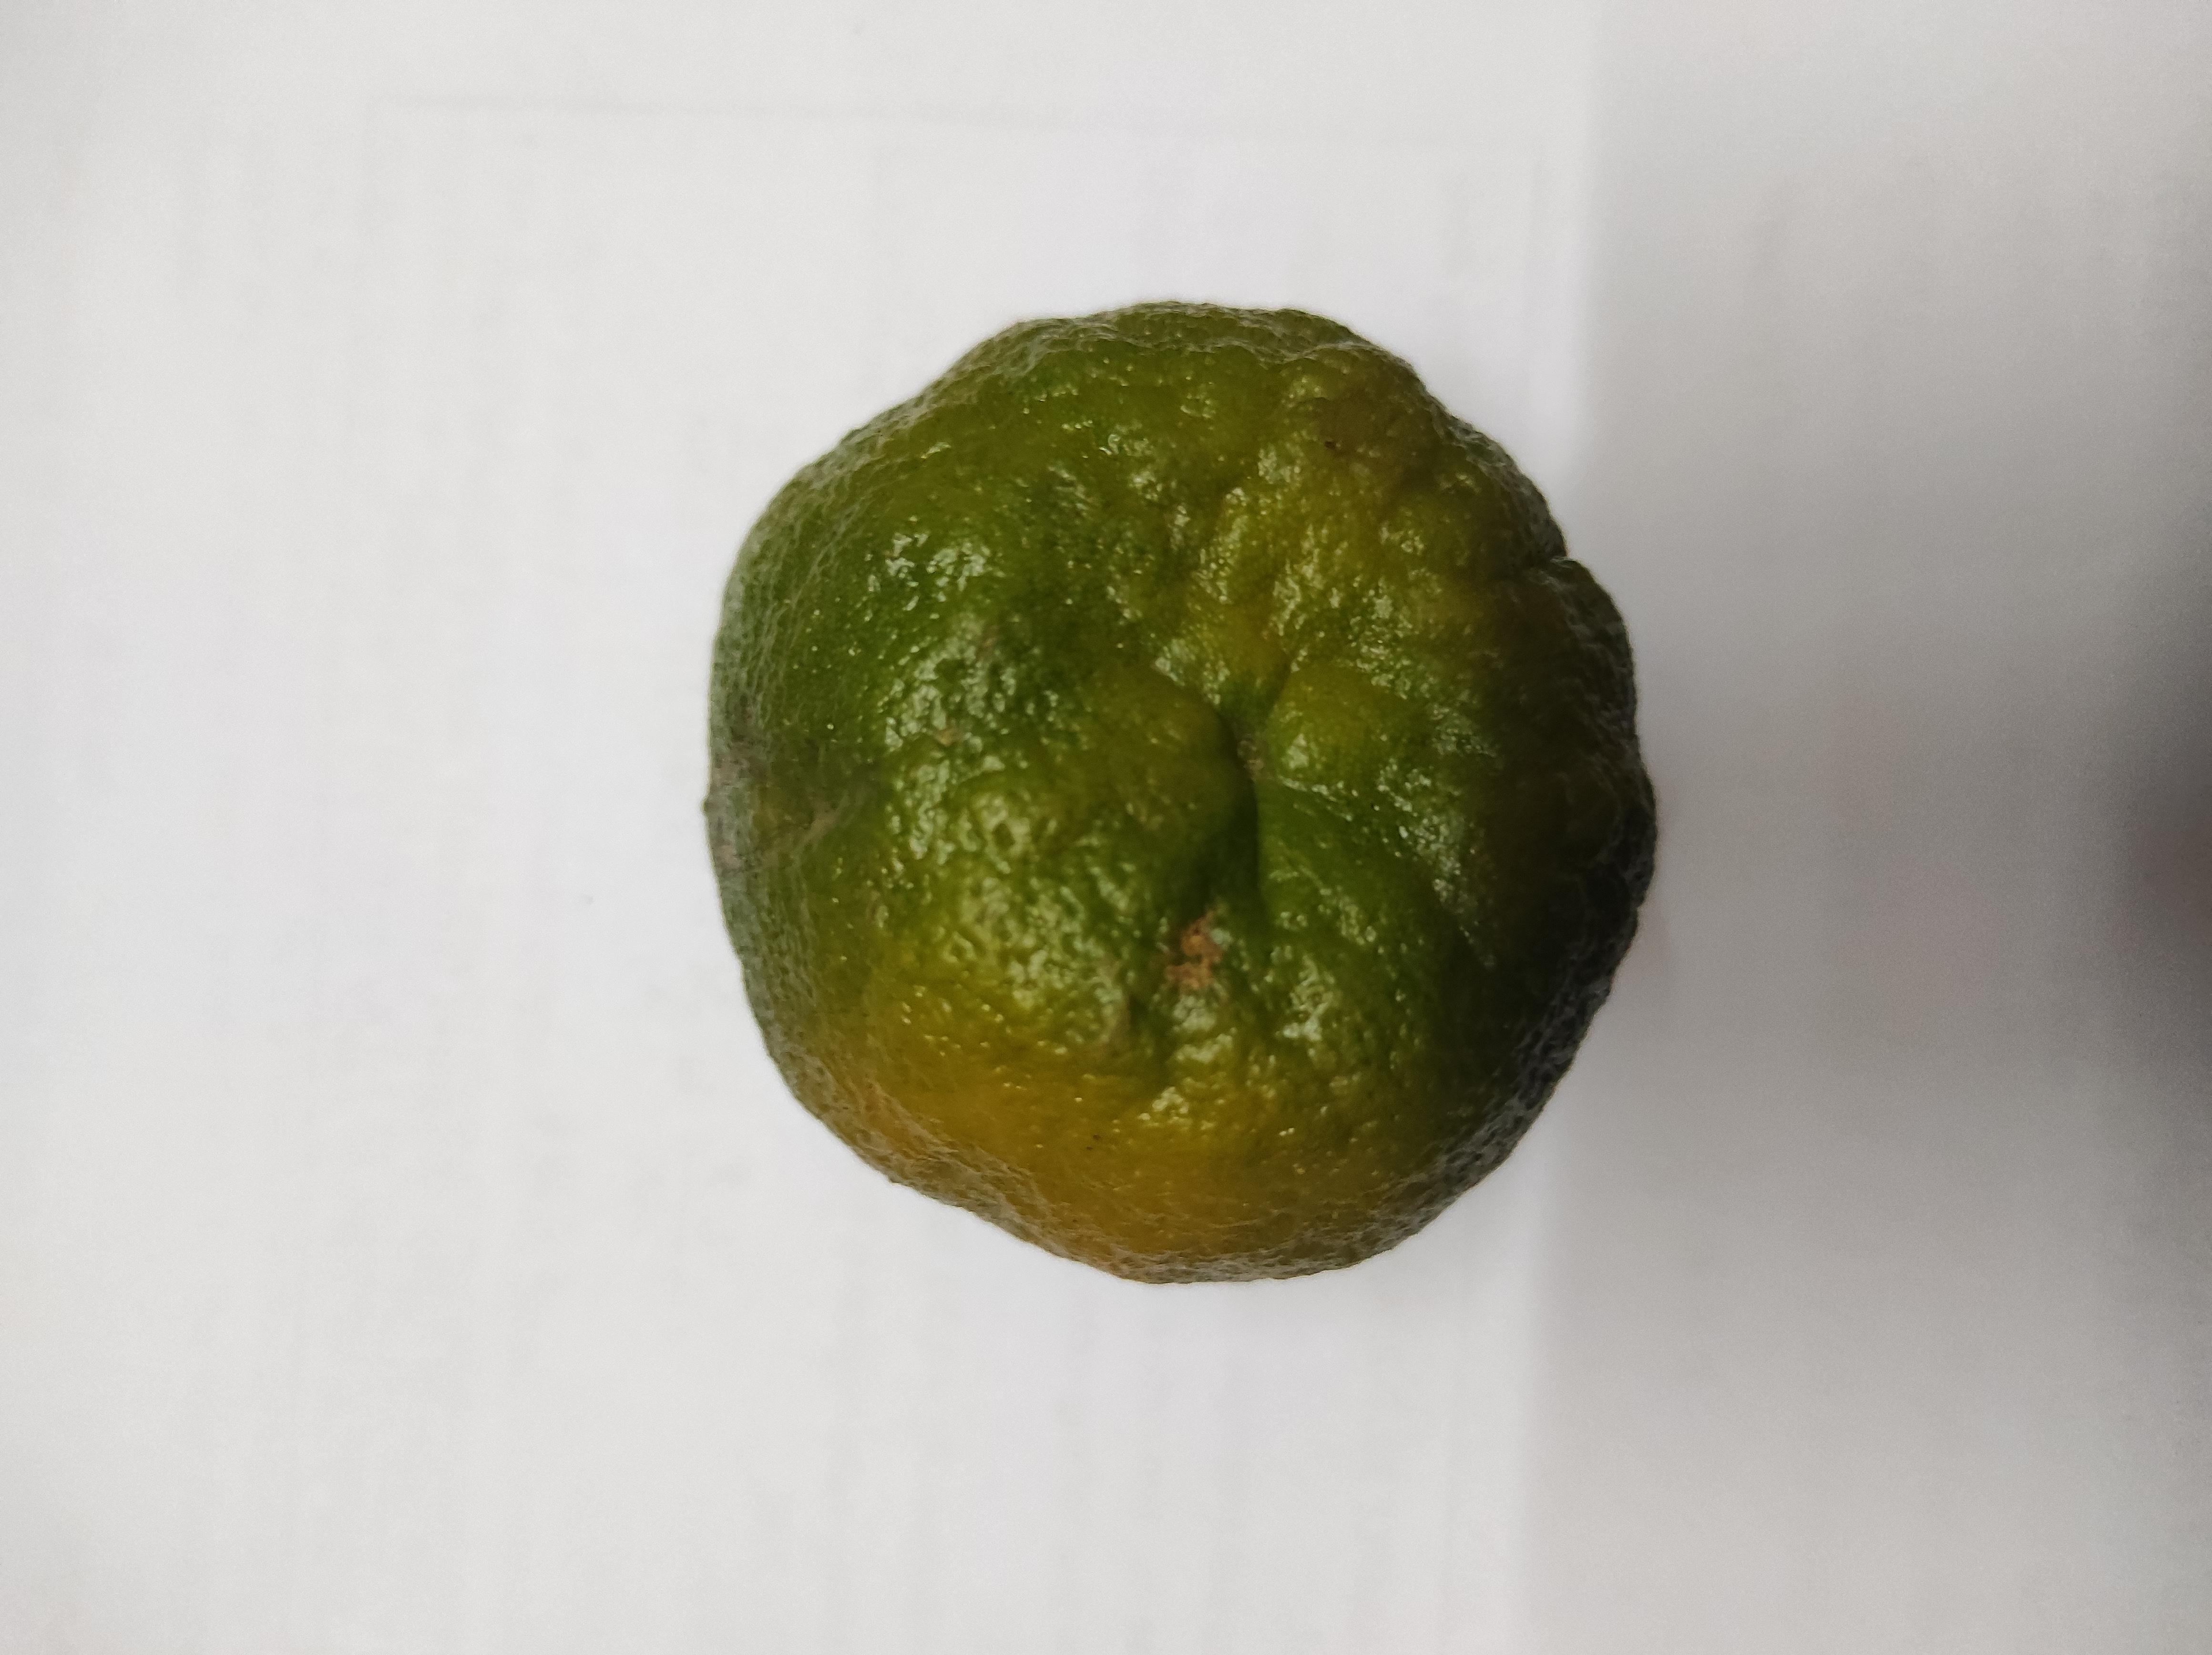Unripe: (710, 304, 1668, 1253)
